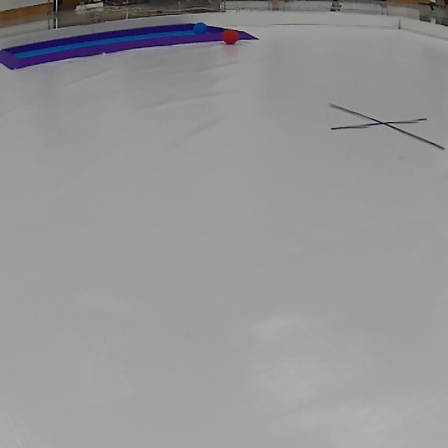blue: (191, 19, 213, 38)
blue_aim: (0, 20, 277, 63)
red: (219, 27, 241, 44)
